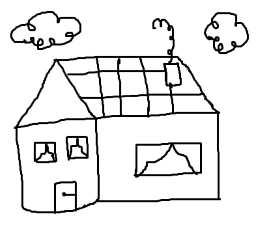clouds: (10, 10, 81, 50), (204, 11, 248, 54)
door: (51, 181, 76, 210)
open_window: (134, 142, 202, 177), (66, 135, 89, 159), (35, 141, 57, 163)
roof: (15, 56, 219, 126)
smoking_chimney: (147, 12, 186, 91)
wall: (94, 108, 219, 205)
